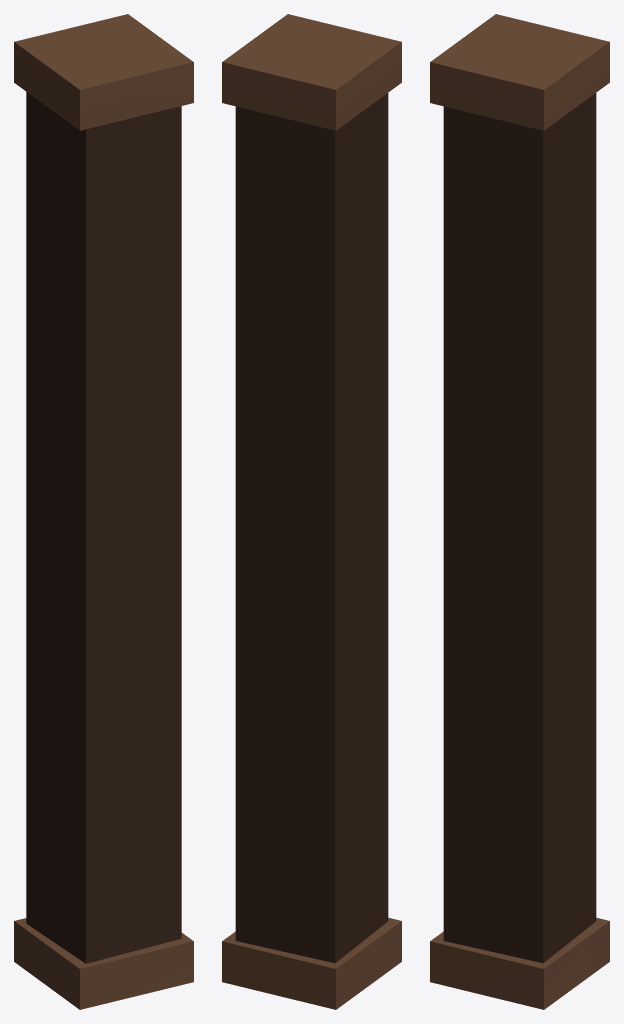
File: qb_pillar_wood_lod1.glb
The picture shows the model from 3 angles, left to right: view 1: azimuth 30°, elevation 25°; view 2: azimuth 150°, elevation 25°; view 3: azimuth 330°, elevation 25°; orthographic projection.
Visible parts, largest first — view 1: qb_pillar_wood; view 2: qb_pillar_wood; view 3: qb_pillar_wood.
Boxes of the visible parts, x1=… form: qb_pillar_wood: x1=14, y1=14, x2=193, y2=1009; qb_pillar_wood: x1=222, y1=14, x2=401, y2=1009; qb_pillar_wood: x1=430, y1=14, x2=609, y2=1009.
Bounding box in the file's own units: 0.35 × 2.7 × 0.35.
